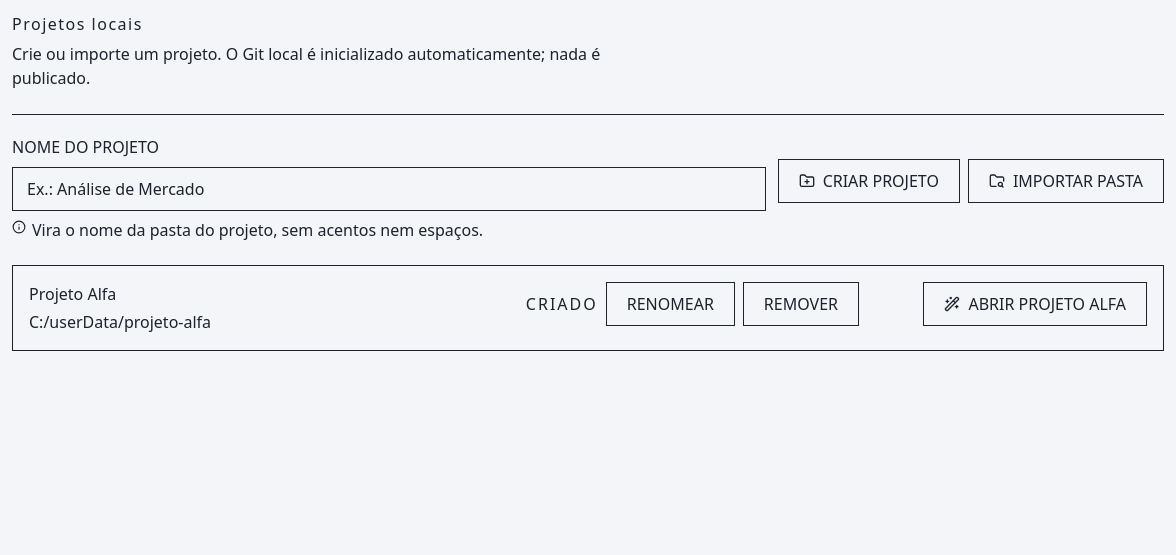
Scenario: ProjetosLocais › abrir o projeto troca o índice pela jornada, e voltar desfaz
Click the button "Abrir Projeto Alfa".
click(1035, 304)  # box top-left (923, 282), bottom-right (1147, 326)
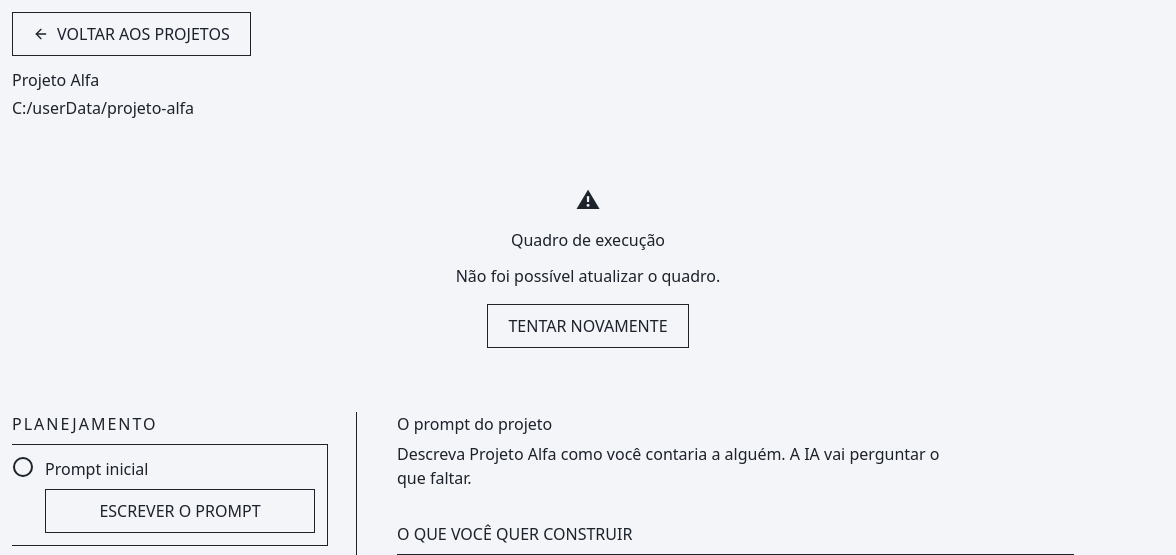
Expected: the text "Prompt inicial" is shown, top-left (45, 458), bottom-right (148, 480)
Expected: the button "Criar projeto" is gone
Click the button "Voltar aos projetos".
click(131, 34)  # box top-left (12, 12), bottom-right (251, 56)
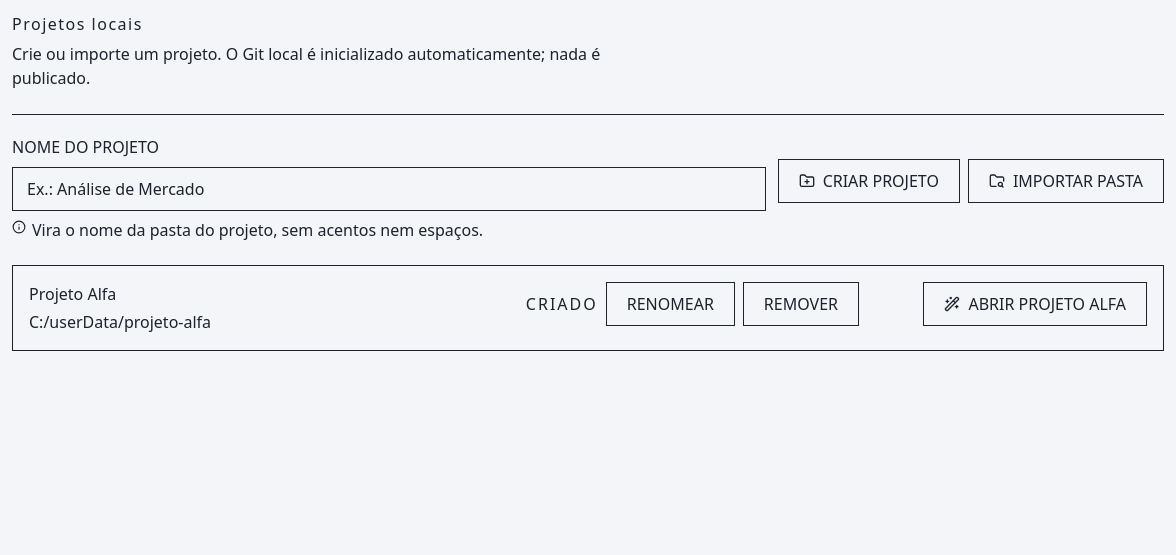
Expected: the button "Criar projeto" is shown, top-left (778, 159), bottom-right (960, 203)
